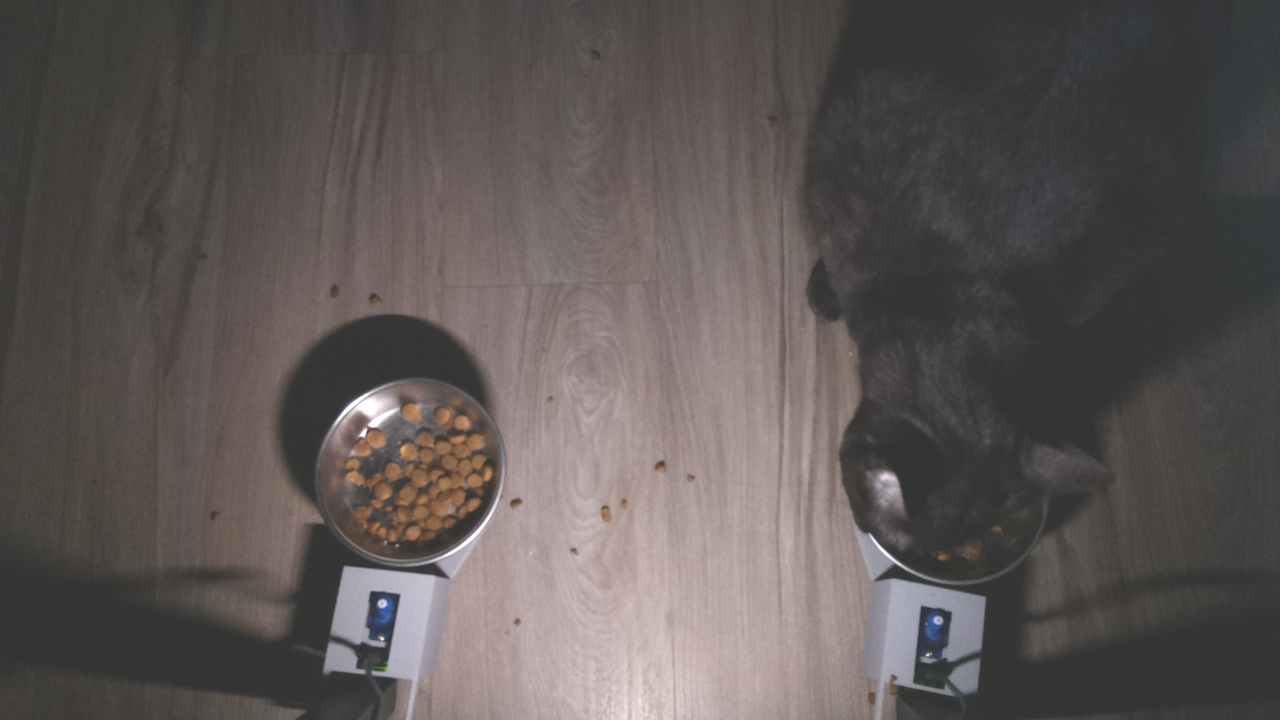open_bowl: (311, 369, 515, 573)
saki_eating: (819, 318, 1141, 582)
